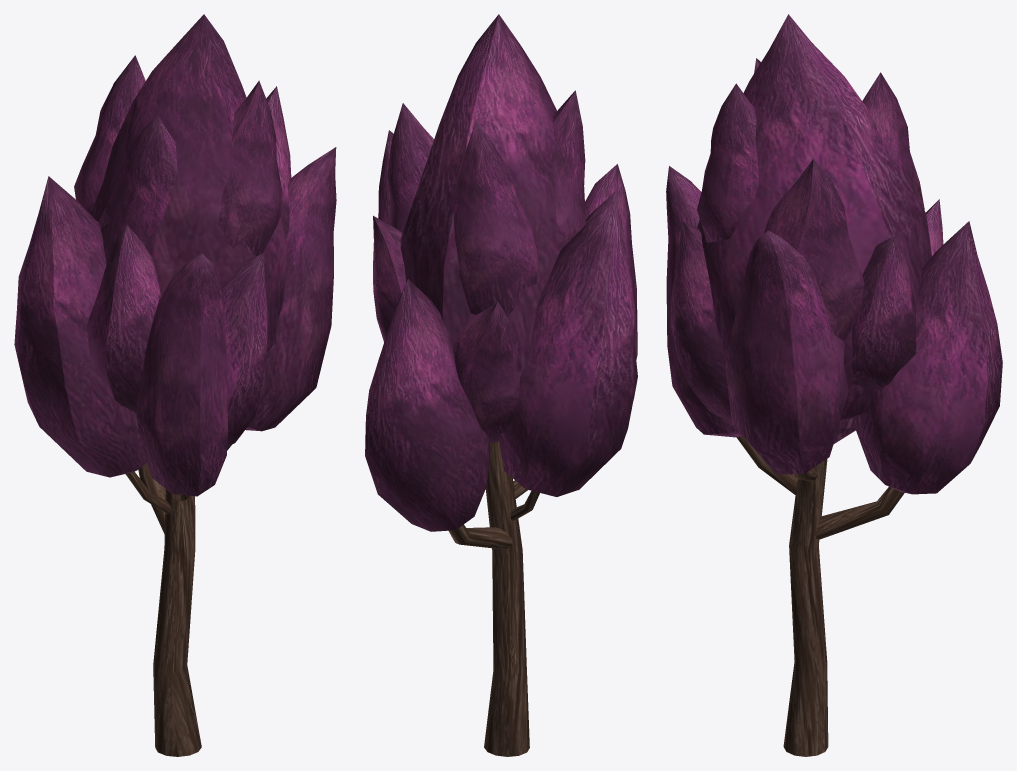
File: Tree04-transformed.glb
The picture shows the model from 3 angles, left to right: view 1: azimuth 30°, elevation 25°; view 2: azimuth 150°, elevation 25°; view 3: azimuth 270°, elevation 25°; orthographic projection. The views are drawn at different scales.
Visible parts, largest first — view 1: Tree04; view 2: Tree04; view 3: Tree04.
Part boxes in pixels (box(x1,y1,x2,y2)): Tree04: box(14, 14, 336, 756); Tree04: box(365, 14, 637, 756); Tree04: box(666, 14, 1002, 756).
Size of the model in its own units: 3.84 by 9.5 by 3.91.
Materials: 2 (2 with a texture image).
